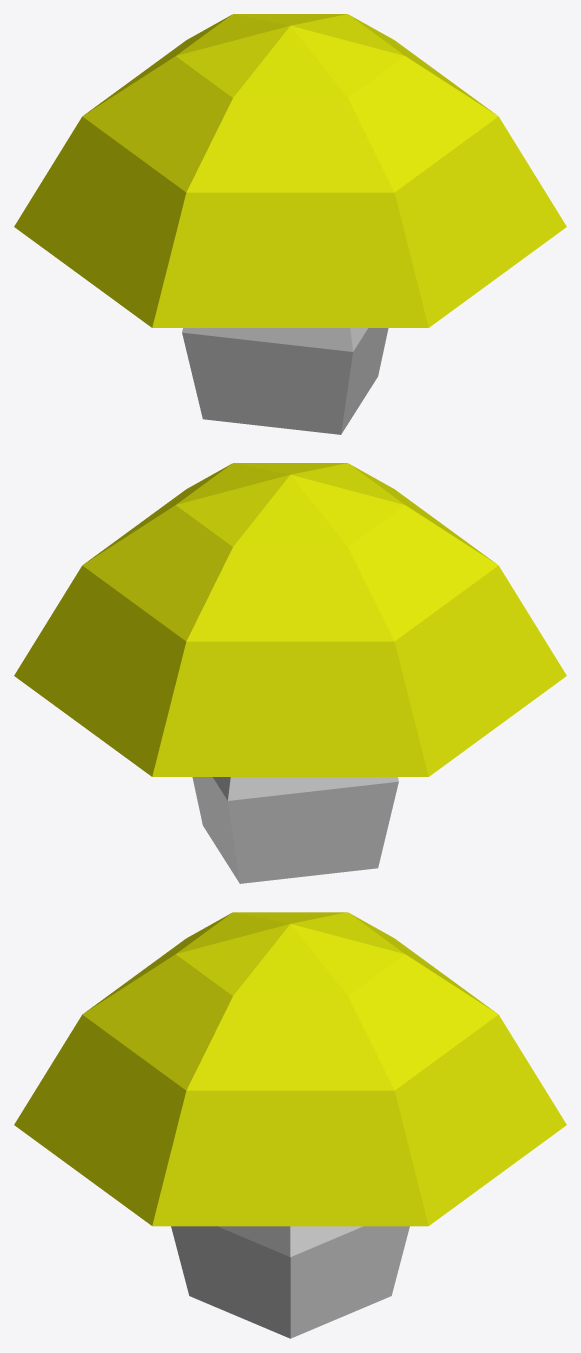
File: Mushroom.fbx
3 renders of one model, top to bottom at view 1: azimuth 30°, elevation 25°; view 2: azimuth 150°, elevation 25°; view 3: azimuth 270°, elevation 25°, orthographic.
Visible parts, largest first — view 1: Cone, Cylinder; view 2: Cone, Cylinder; view 3: Cone, Cylinder.
Part boxes in pixels (bbox=[...]): Cone: bbox=[14, 14, 566, 327]; Cylinder: bbox=[182, 328, 388, 434]; Cone: bbox=[14, 463, 566, 776]; Cylinder: bbox=[192, 777, 398, 883]; Cone: bbox=[14, 912, 566, 1226]; Cylinder: bbox=[171, 1226, 409, 1338].
Size of the model in its own units: 473 by 406 by 546.
